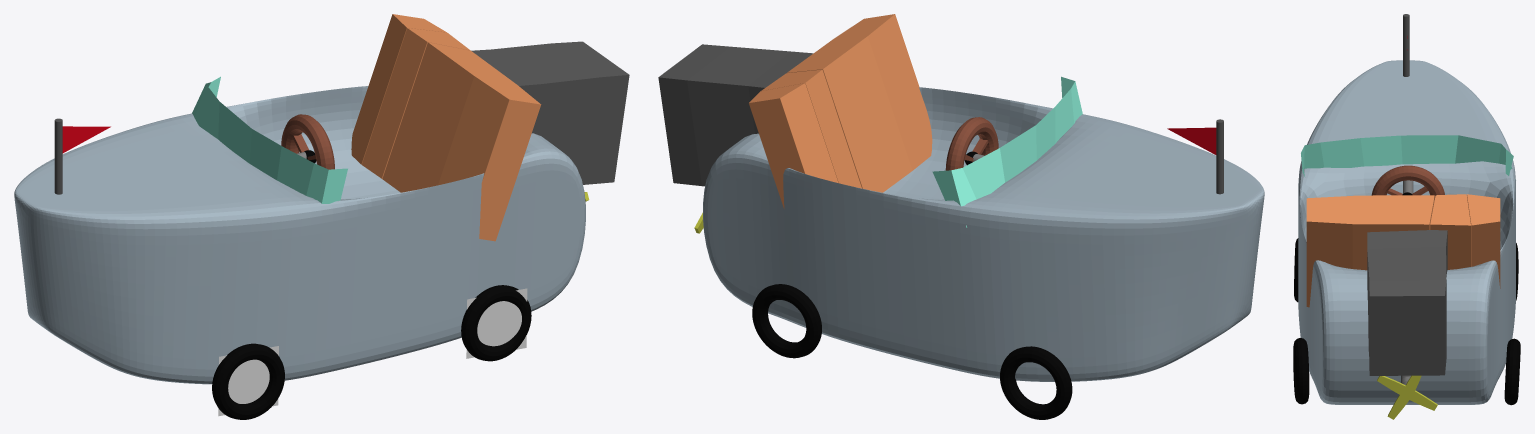
File: barcoche.glb
3 renders of one model, left to right at view 1: azimuth 30°, elevation 25°; view 2: azimuth 150°, elevation 25°; view 3: azimuth 270°, elevation 25°, orthographic. The views are drawn at different scales.
Parts seen in each view (by area): view 1: Plano, Plano.006, Plano.001, Plano.007, Toroide.001, Toroide.002, Plano.010, Toroide, Plano.008, Plano.012, Cilindro.002; view 2: Plano, Plano.006, Plano.001, Plano.007, Toroide.003, Toroide.004, Toroide, Plano.012, Cilindro.002; view 3: Plano, Plano.001, Plano.006, Plano.007, Toroide, Toroide.002, Toroide.004, Cilindro.002, Plano.002, Plano.003, Toroide.001, Plano.004.
Part boxes in pixels (x1,y1,x2,y2): Plano: (14,86,585,384); Plano.006: (351,14,541,241); Plano.001: (471,41,629,184); Plano.007: (192,76,347,203); Toroide.001: (212,343,284,419); Toroide.002: (461,285,531,361); Plano.010: (466,288,527,358); Toroide: (281,114,334,169); Plano.008: (218,346,278,416); Plano.012: (62,126,110,153); Cilindro.002: (54,118,62,194); Plano: (703,87,1264,381); Plano.006: (749,14,932,208); Plano.001: (658,44,813,186); Plano.007: (932,76,1082,227); Toroide.003: (1000,346,1072,419); Toroide.004: (752,284,821,358); Toroide: (945,117,998,170); Plano.012: (1167,127,1216,154); Cilindro.002: (1216,119,1223,194); Plano: (1298,60,1515,404); Plano.001: (1367,230,1447,375); Plano.006: (1306,194,1500,307); Plano.007: (1301,135,1515,179); Toroide: (1371,165,1444,199); Toroide.002: (1293,338,1309,404); Toroide.004: (1504,338,1520,405); Cilindro.002: (1403,14,1409,76); Plano.002: (1403,388,1437,410); Plano.003: (1377,376,1408,397); Toroide.001: (1294,238,1298,302); Plano.004: (1387,395,1409,419).
Size of the model in its own units: 13.18 by 6.18 by 5.36.
